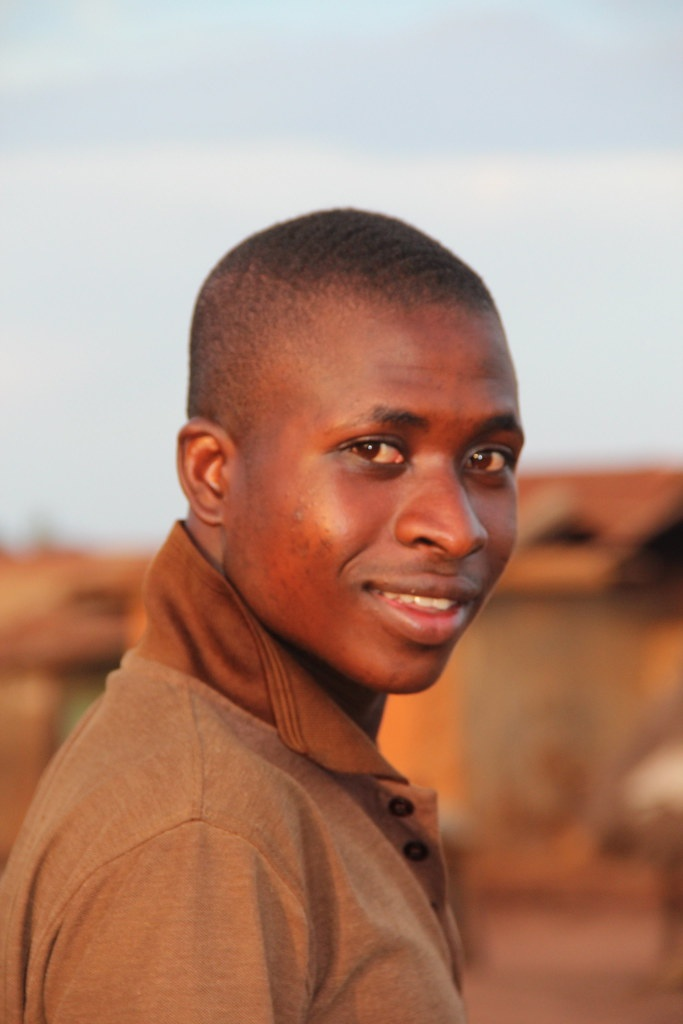without_mask: (193, 281, 531, 695)
